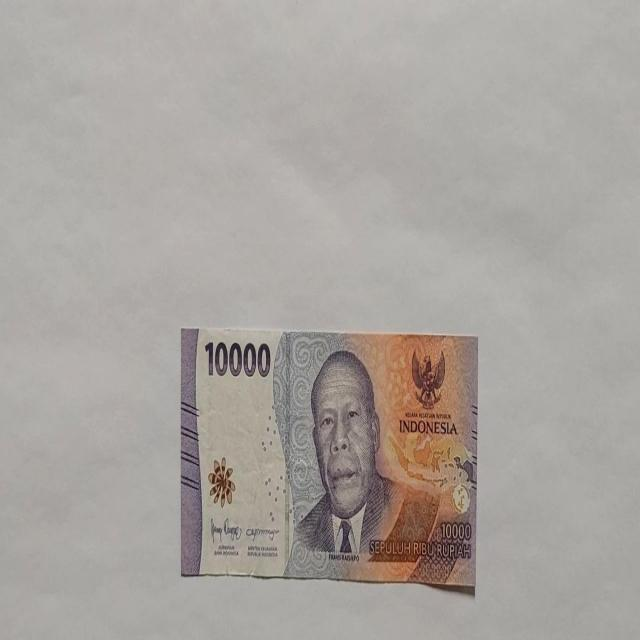Kertas: (181, 326, 478, 588), (204, 338, 272, 380)
